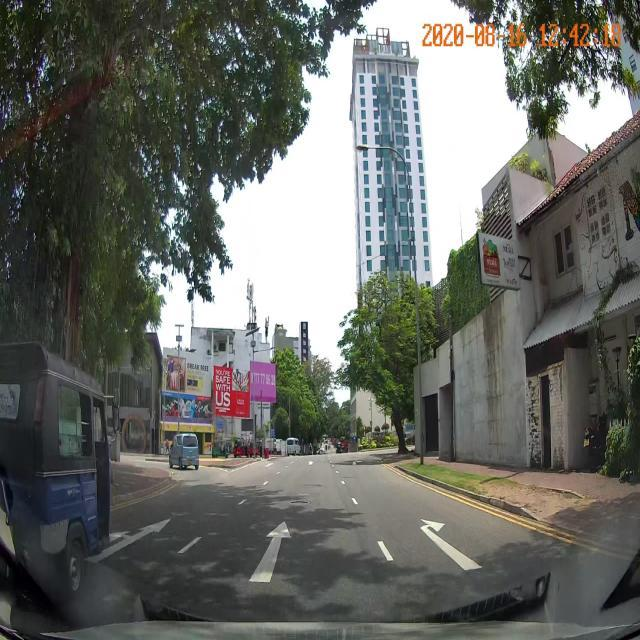forward: (140, 507, 411, 594)
right: (365, 501, 573, 605)
